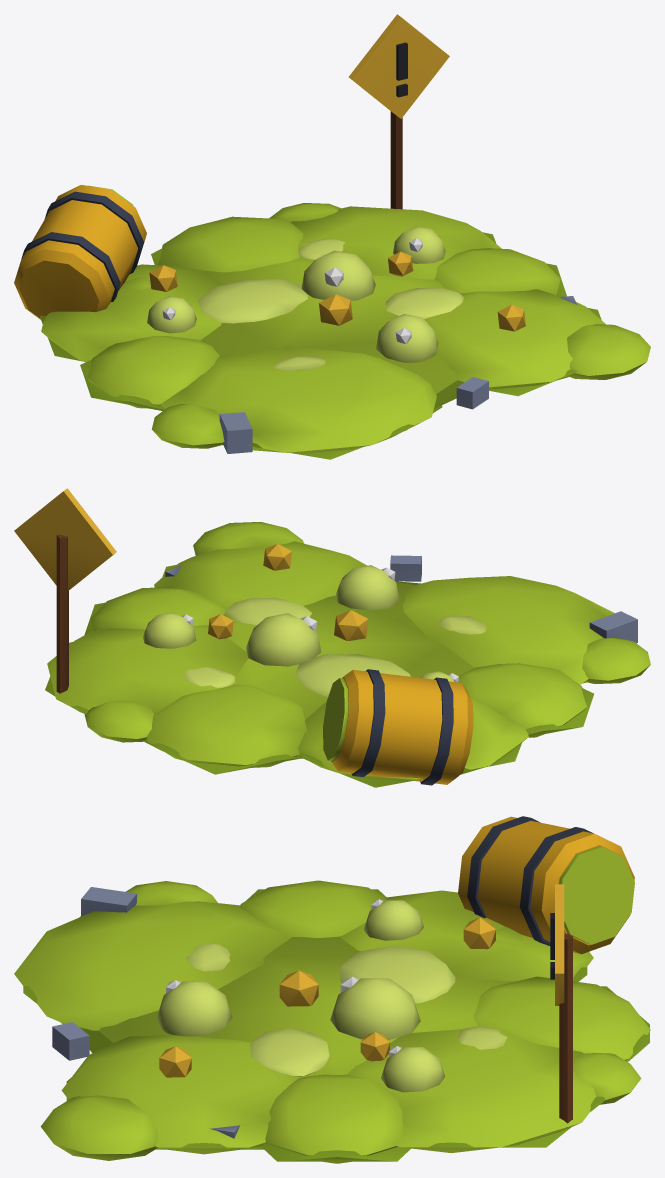
File: b_kleb.glb
3 renders of one model, top to bottom at view 1: azimuth 30°, elevation 25°; view 2: azimuth 150°, elevation 25°; view 3: azimuth 270°, elevation 25°, orthographic. The views are drawn at different scales.
Parts seen in each view (by area): view 1: body, lv4_blobs, pulse_bubble4, lv7_sparkle, pulse_bubble1, pulse_bubble2, pulse_bubble3; view 2: body, lv4_blobs, pulse_bubble4, pulse_bubble1, lv7_sparkle, pulse_bubble3; view 3: body, lv4_blobs, pulse_bubble4, lv7_sparkle, pulse_bubble1, pulse_bubble3, pulse_bubble2.
Boxes of the visible parts, x1,y1,x2,y2 form: body: (14, 14, 605, 459); lv4_blobs: (151, 203, 650, 448); pulse_bubble4: (301, 250, 375, 300); lv7_sparkle: (149, 251, 525, 331); pulse_bubble1: (376, 314, 438, 362); pulse_bubble2: (147, 296, 196, 333); pulse_bubble3: (393, 226, 445, 263); body: (14, 488, 637, 787); lv4_blobs: (84, 522, 650, 742); pulse_bubble4: (246, 613, 321, 666); pulse_bubble1: (336, 565, 398, 610); lv7_sparkle: (208, 544, 368, 640); pulse_bubble3: (143, 612, 196, 648); body: (14, 816, 650, 1163); lv4_blobs: (40, 881, 641, 1160); pulse_bubble4: (330, 976, 420, 1039); lv7_sparkle: (159, 917, 495, 1077); pulse_bubble1: (156, 980, 232, 1036); pulse_bubble3: (381, 1046, 444, 1092); pulse_bubble2: (364, 899, 423, 940).
Bounding box in the file's own units: 3.43 × 1.52 × 3.35.
